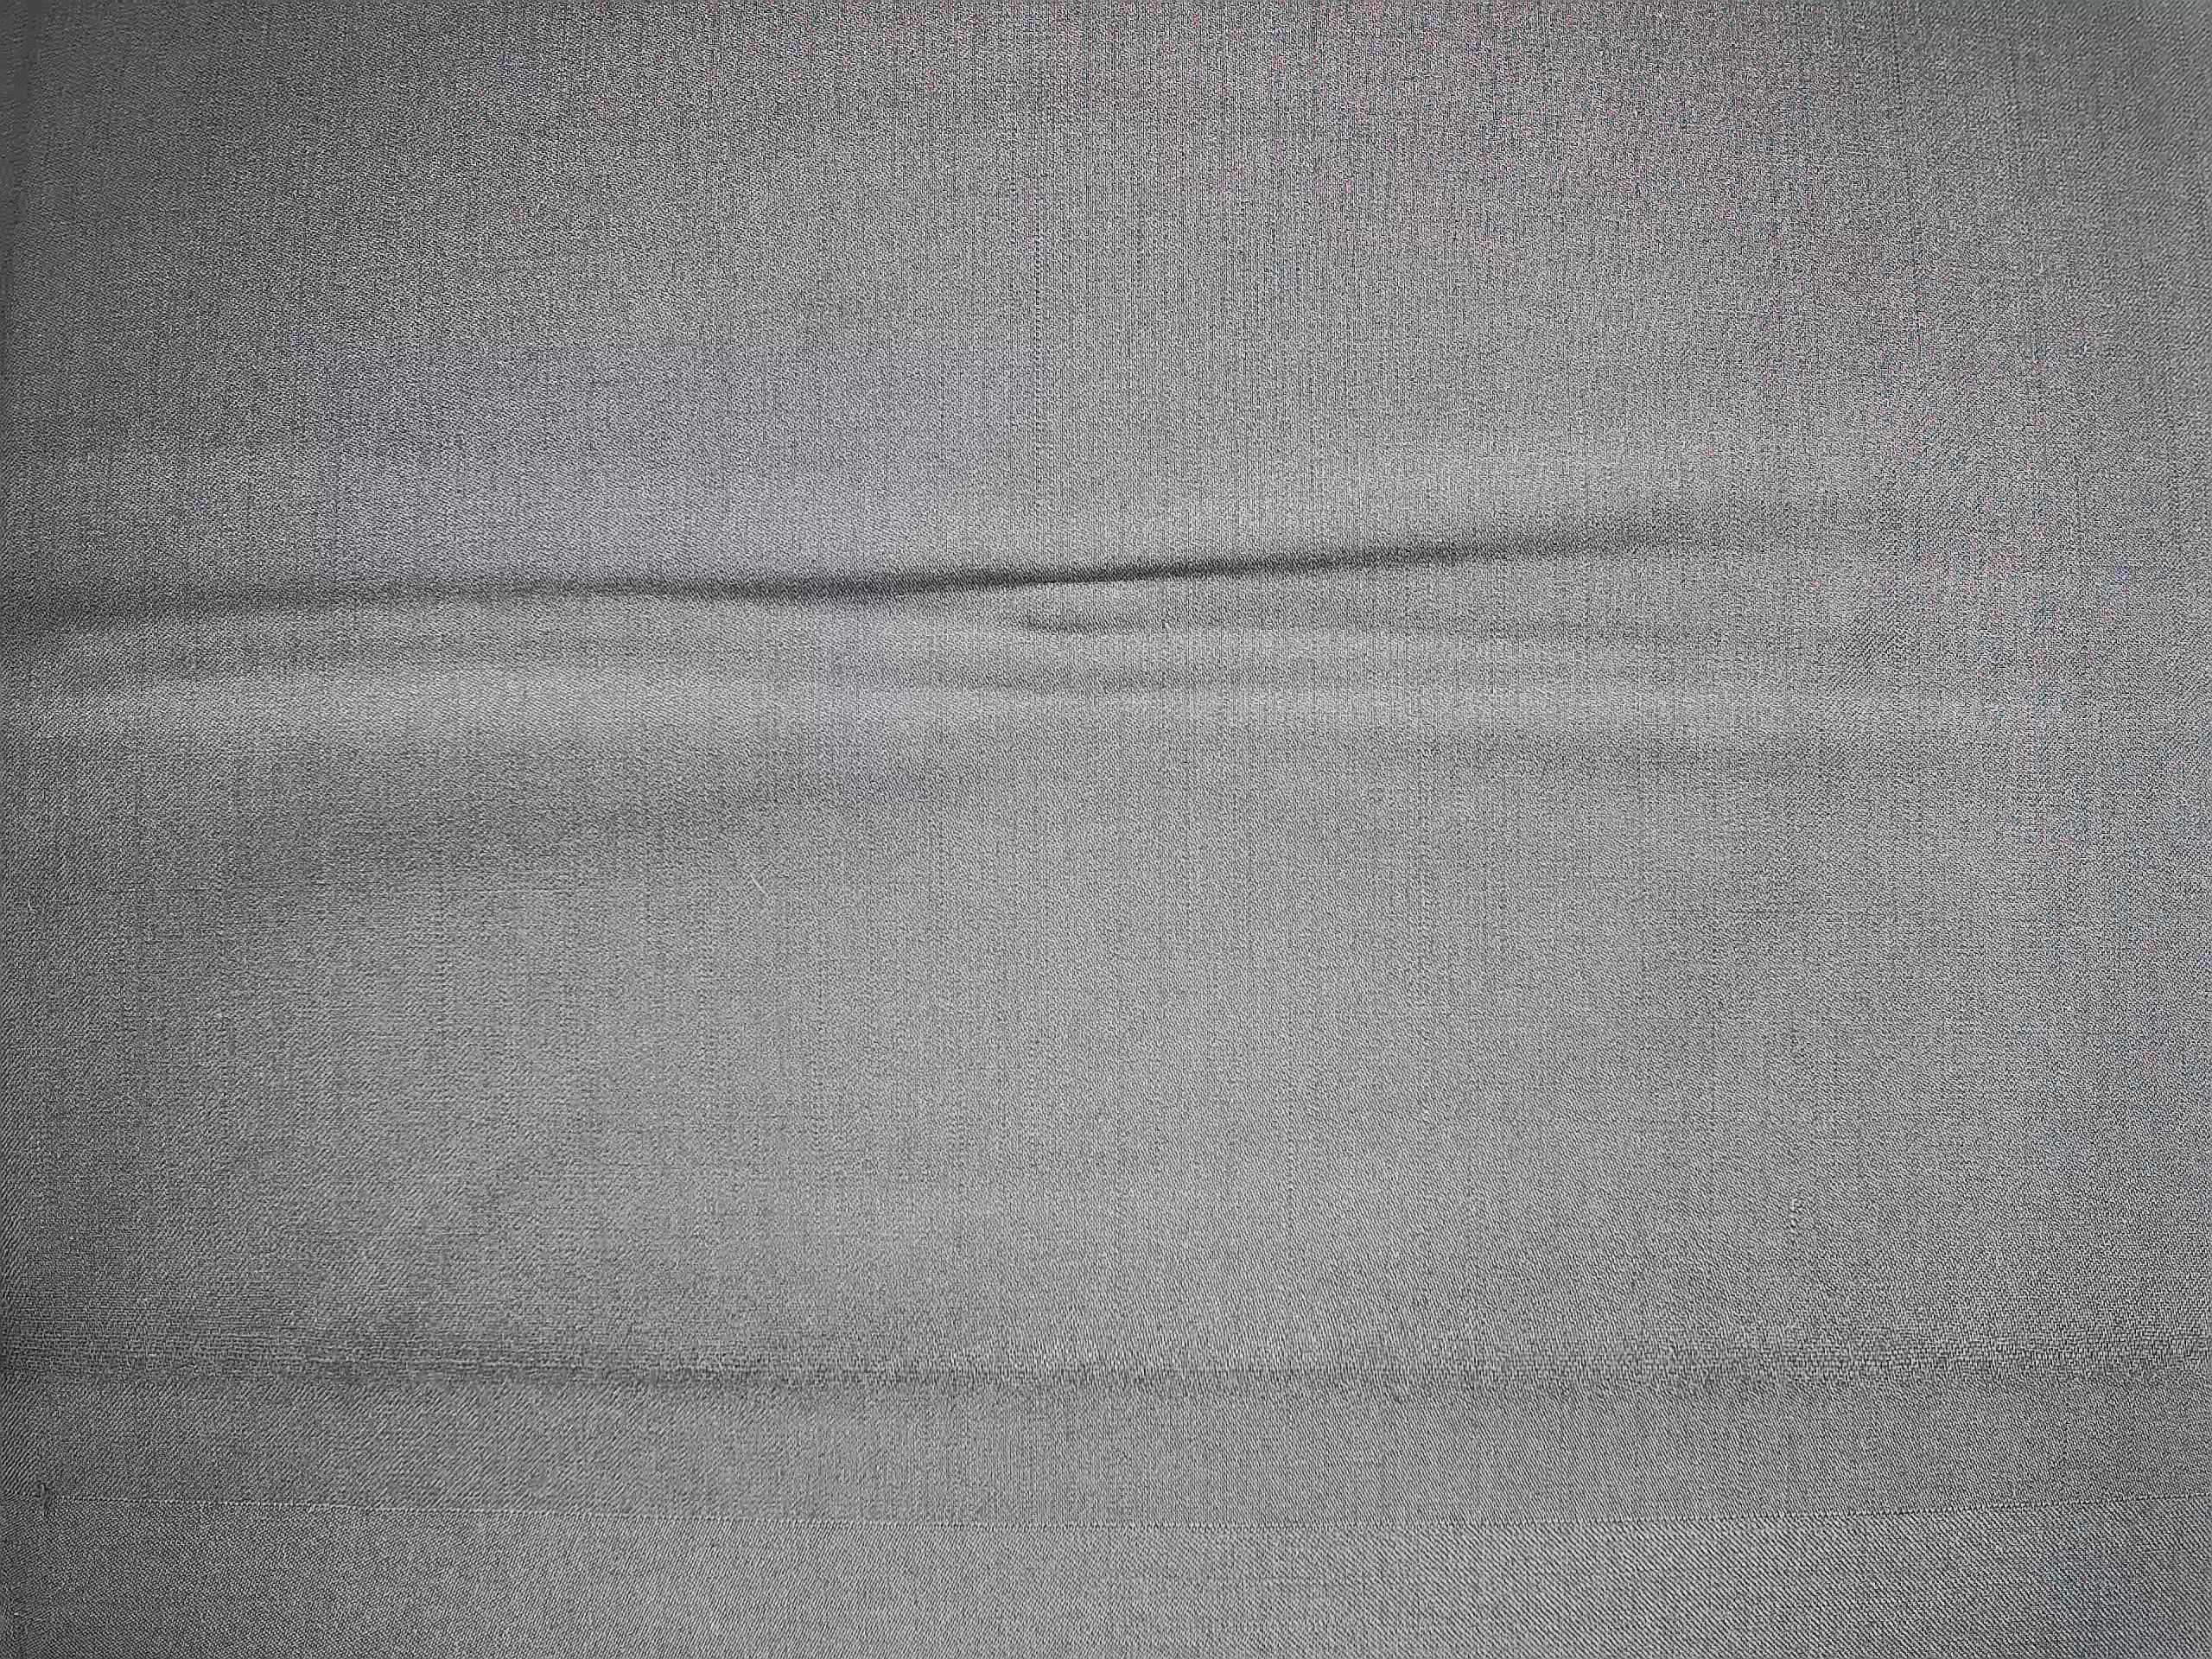thin-spinning: (3, 1488, 2212, 1659), (10, 1302, 2207, 1399)
